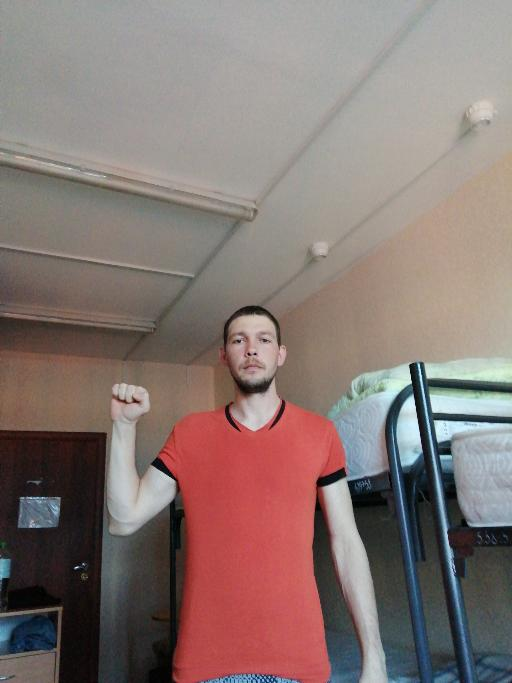fist: (104, 376, 156, 426)
